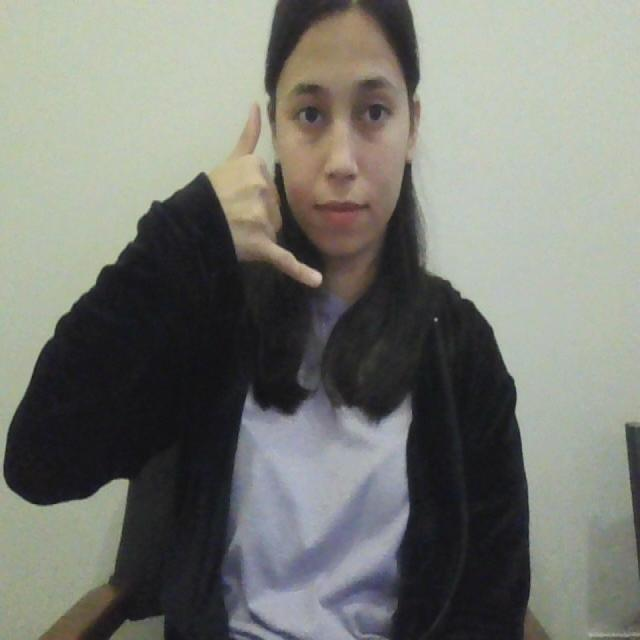Telefon: (218, 101, 326, 288)
